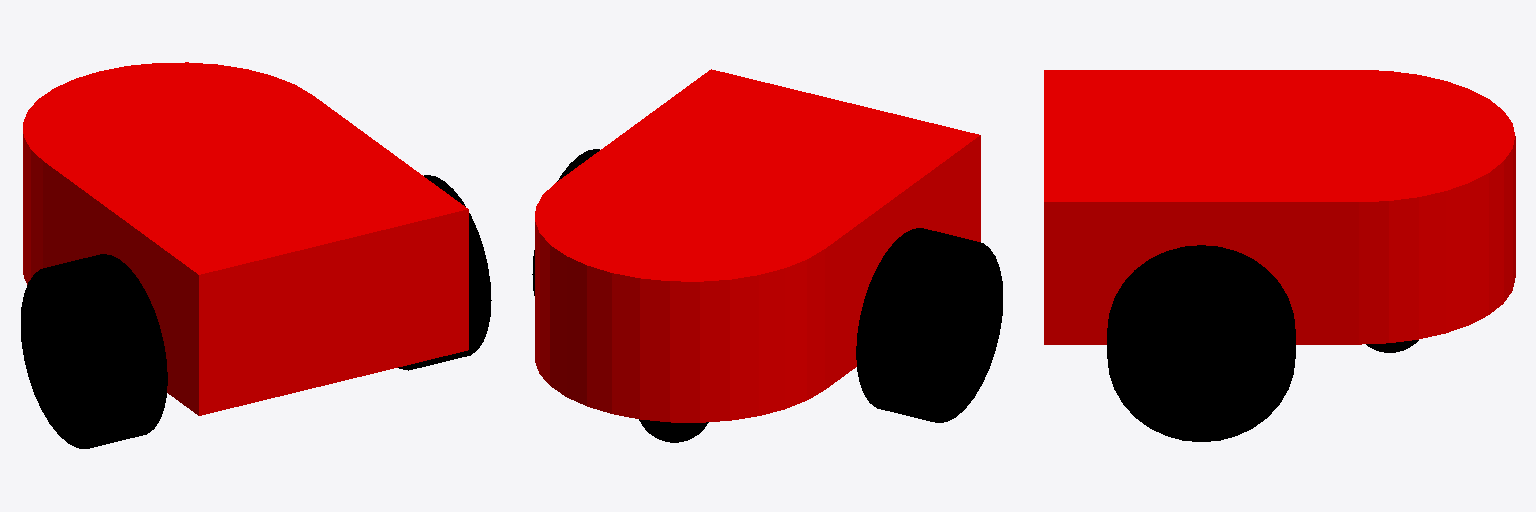
The robot description file, URDF, robot "robot":
<?xml version="1.0" ?>
<robot name="robot">

    <webots>
        <plugin type="diff_drive_sim.webots_robot_driver.RobotDriver"/>
    </webots>

    <!-- Colors -->
    <material name="red">
        <color rgba="1.0 0.0 0.0 1.0"/>
    </material>

    <material name="black">
        <color rgba="0.0 0.0 0.0 1.0"/>
    </material>

    <!-- Robot body -->
    <link name="base_link">
        <visual>
            <geometry>
                <box size="0.1 0.1 0.05"/>
            </geometry>
            <material name="red"/>
        </visual>
        <collision>
            <geometry>
                <box size="0.1 0.1 0.05"/>
            </geometry>
        </collision>
    </link>

    <joint name="base_link_to_front_frame" type="fixed">
        <parent link="base_link"/>
        <child link="front_frame"/>
        <origin xyz="0 0.05 0" rpy="0 0 0"/>
    </joint>

    <link name="front_frame">
        <visual>
            <origin xyz="0 0 0" rpy="0 0 0"/>
            <geometry>
                <cylinder radius="0.05" length="0.05"/>
            </geometry>
            <material name="red"/>
        </visual>
        <collision>
            <origin xyz="0 0 0" rpy="0 0 0"/>
            <geometry>
                <cylinder radius="0.05" length="0.05"/>
            </geometry>
        </collision>
    </link>

    <!-- Wheel 1 -->
    <joint name="motor1" type="continuous">
        <parent link="base_link"/>
        <child link="wheel1"/>
        <axis xyz="0 0 1"/>
        <limit effort="10" velocity="10"/>
        <origin xyz="0.06 0 -0.02" rpy="0 1.57 0"/>
    </joint>

    <link name="wheel1">
        <visual>
            <origin xyz="0 0 0" rpy="0 0 0"/>
            <geometry>
                <cylinder radius="0.03" length="0.02"/>
            </geometry>
            <material name="black"/>
        </visual>
        <collision>
            <origin xyz="0 0 0" rpy="0 0 0"/>
            <geometry>
                <cylinder radius="0.03" length="0.02"/>
            </geometry>
        </collision>
    </link>

    <!-- Wheel 2 -->
    <joint name="motor2" type="continuous">
        <parent link="base_link"/>
        <child link="wheel2"/>
        <axis xyz="0 0 1"/>
        <limit effort="10" velocity="10"/>
        <origin xyz="-0.06 0 -0.02" rpy="0 1.57 0"/>
    </joint>

    <link name="wheel2">
        <visual>
            <origin xyz="0 0 0" rpy="0 0 0"/>
            <geometry>
                <cylinder radius="0.03" length="0.02"/>
            </geometry>
            <material name="black"/>
        </visual>
        <collision>
            <origin xyz="0 0 0" rpy="0 0 0"/>
            <geometry>
                <cylinder radius="0.03" length="0.02"/>
            </geometry>
        </collision>
    </link>

    <!-- Caster Wheel -->
    <joint name="base_link_to_caster" type="fixed">
        <parent link="base_link"/>
        <child link="caster"/>
        <origin xyz="0 0.06 -0.0375" rpy="0 0 0"/>
    </joint>

    <link name="caster">
        <visual>
            <origin xyz="0 0 0" rpy="0 0 0"/>
            <geometry>
                <sphere radius="0.0125"/>
            </geometry>
            <material name="black"/>
        </visual>
        <collision>
            <origin xyz="0 0 0" rpy="0 0 0"/>
            <geometry>
                <sphere radius="0.0125"/>
            </geometry>
        </collision>
    </link>

</robot>

--- Render facts (derived) ---
The picture shows the robot from 3 angles, left to right: view 1: azimuth 30°, elevation 25°; view 2: azimuth 150°, elevation 25°; view 3: azimuth 270°, elevation 25°; orthographic projection.
Robot: robot — 5 links, 4 joints (2 continuous, 2 fixed); root link base_link; default pose: every joint at zero.
Links seen in each view (by area): view 1: base_link, front_frame, wheel2, wheel1; view 2: front_frame, base_link, wheel2, caster; view 3: base_link, front_frame, wheel1.
Link boxes in pixels (x1,y1,x2,y2): base_link: (43, 96, 468, 415); front_frame: (23, 62, 332, 284); wheel2: (21, 254, 167, 448); wheel1: (398, 175, 491, 370); front_frame: (535, 150, 842, 422); base_link: (556, 69, 980, 389); wheel2: (856, 228, 1002, 422); caster: (639, 419, 708, 442); base_link: (1044, 70, 1358, 344); front_frame: (1202, 70, 1515, 344); wheel1: (1107, 245, 1295, 441).
Size in the robot's own frame: 0.14 by 0.15 by 0.075 metres.
Geometry: primitives only (box / cylinder / sphere), no mesh files.